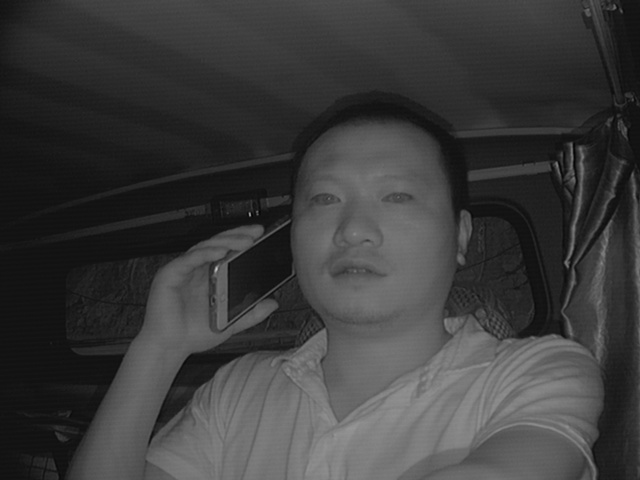hand: (148, 222, 274, 349)
